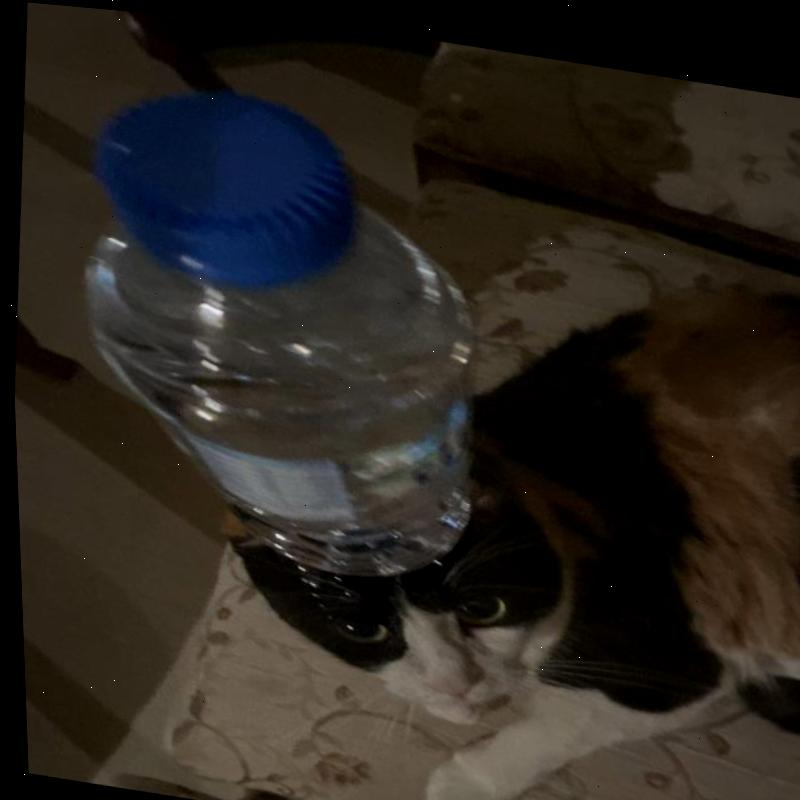botella: (59, 67, 503, 587)
